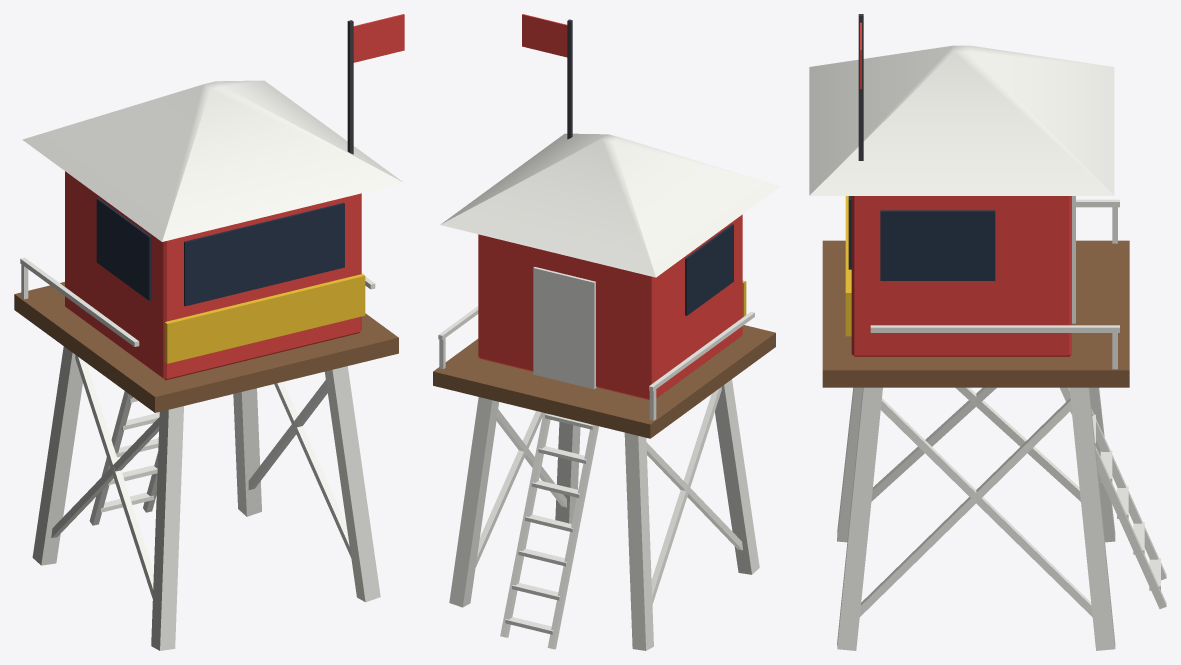
The model's file is lifeguard_tower.glb.
3 views of the same model, side by side, from view 1: azimuth 30°, elevation 25°; view 2: azimuth 150°, elevation 25°; view 3: azimuth 270°, elevation 25° (orthographic). The views are drawn at different scales.
Parts seen in each view (by area): view 1: lifeguard_tower__Body; view 2: lifeguard_tower__Body; view 3: lifeguard_tower__Body.
Part boxes in pixels (x1=…): lifeguard_tower__Body: x1=14, y1=14, x2=404, y2=650; lifeguard_tower__Body: x1=433, y1=14, x2=780, y2=650; lifeguard_tower__Body: x1=809, y1=14, x2=1166, y2=650.
Bounding box in the file's own units: 3.5 × 7.22 × 3.73.
